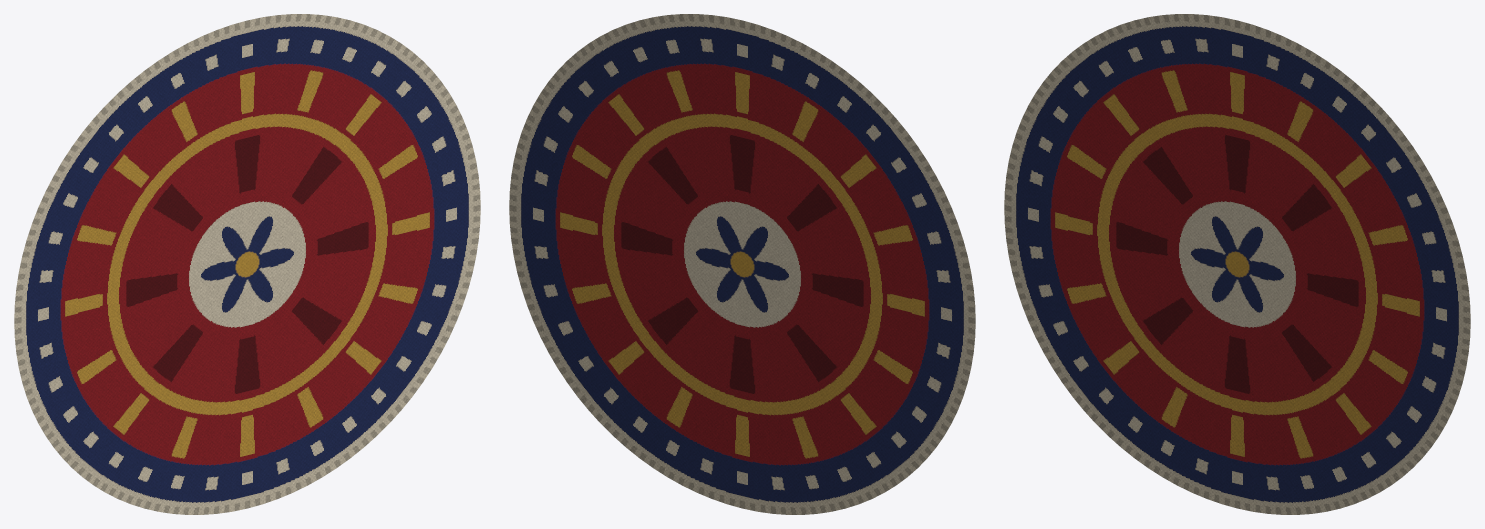
The model's file is home_rug.obj.
3 views of the same model, side by side, from view 1: azimuth 30°, elevation 25°; view 2: azimuth 150°, elevation 25°; view 3: azimuth 330°, elevation 25° (orthographic).
Parts seen in each view (by area): view 1: home_rug; view 2: home_rug; view 3: home_rug.
Part boxes in pixels (left/top/right/bottom): home_rug: left=14, top=14, right=480, bottom=514; home_rug: left=509, top=14, right=975, bottom=514; home_rug: left=1004, top=14, right=1470, bottom=514.
Bounding box in the file's own units: 2 × 2 × 0.
1 material, 1 textured.
